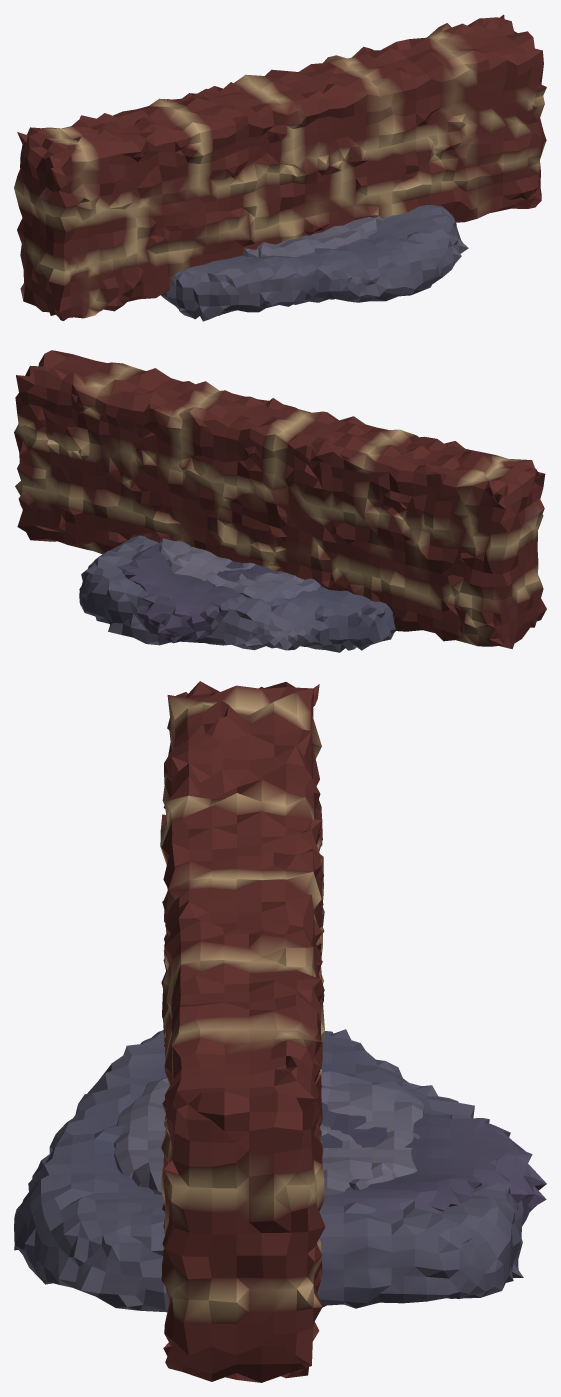
The model's file is PC_Stones_01.fbx.
3 views of the same model, one above another, from view 1: azimuth 30°, elevation 25°; view 2: azimuth 150°, elevation 25°; view 3: azimuth 270°, elevation 25° (orthographic). The views are drawn at different scales.
Parts seen in each view (by area): view 1: brickEdging, stonePath_03, stonePath_01; view 2: brickEdging, stonePath_03, stonePath_02, stonePath_01; view 3: brickEdging, stonePath_03, stonePath_02, stonePath_01.
Boxes of the visible parts, x1,y1,x2,y2 form: brickEdging: [14, 14, 546, 320]; stonePath_03: [161, 205, 468, 321]; stonePath_01: [242, 215, 384, 257]; brickEdging: [14, 350, 546, 649]; stonePath_03: [79, 535, 395, 652]; stonePath_02: [117, 541, 284, 643]; stonePath_01: [158, 538, 320, 602]; brickEdging: [160, 681, 325, 1382]; stonePath_03: [14, 1029, 523, 1312]; stonePath_02: [321, 1102, 546, 1225]; stonePath_01: [114, 1071, 424, 1195].
Bounding box in the file's own units: 1.62 × 0.5934 × 0.853.
